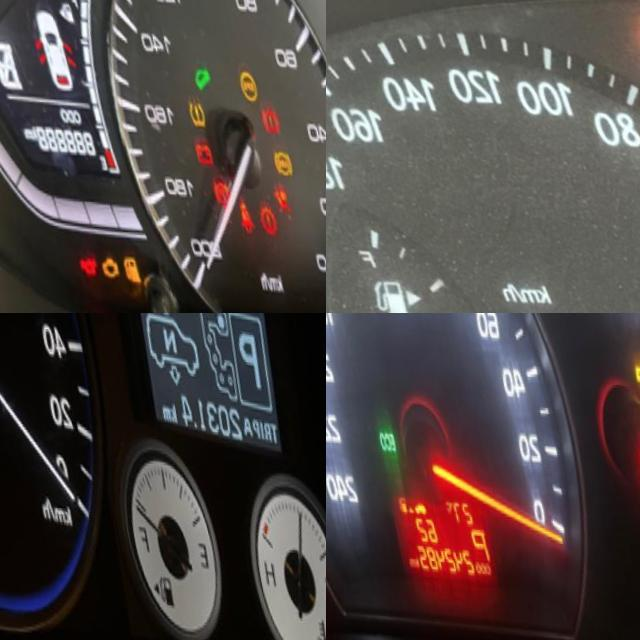Low fuel level: (102, 246, 129, 285)
